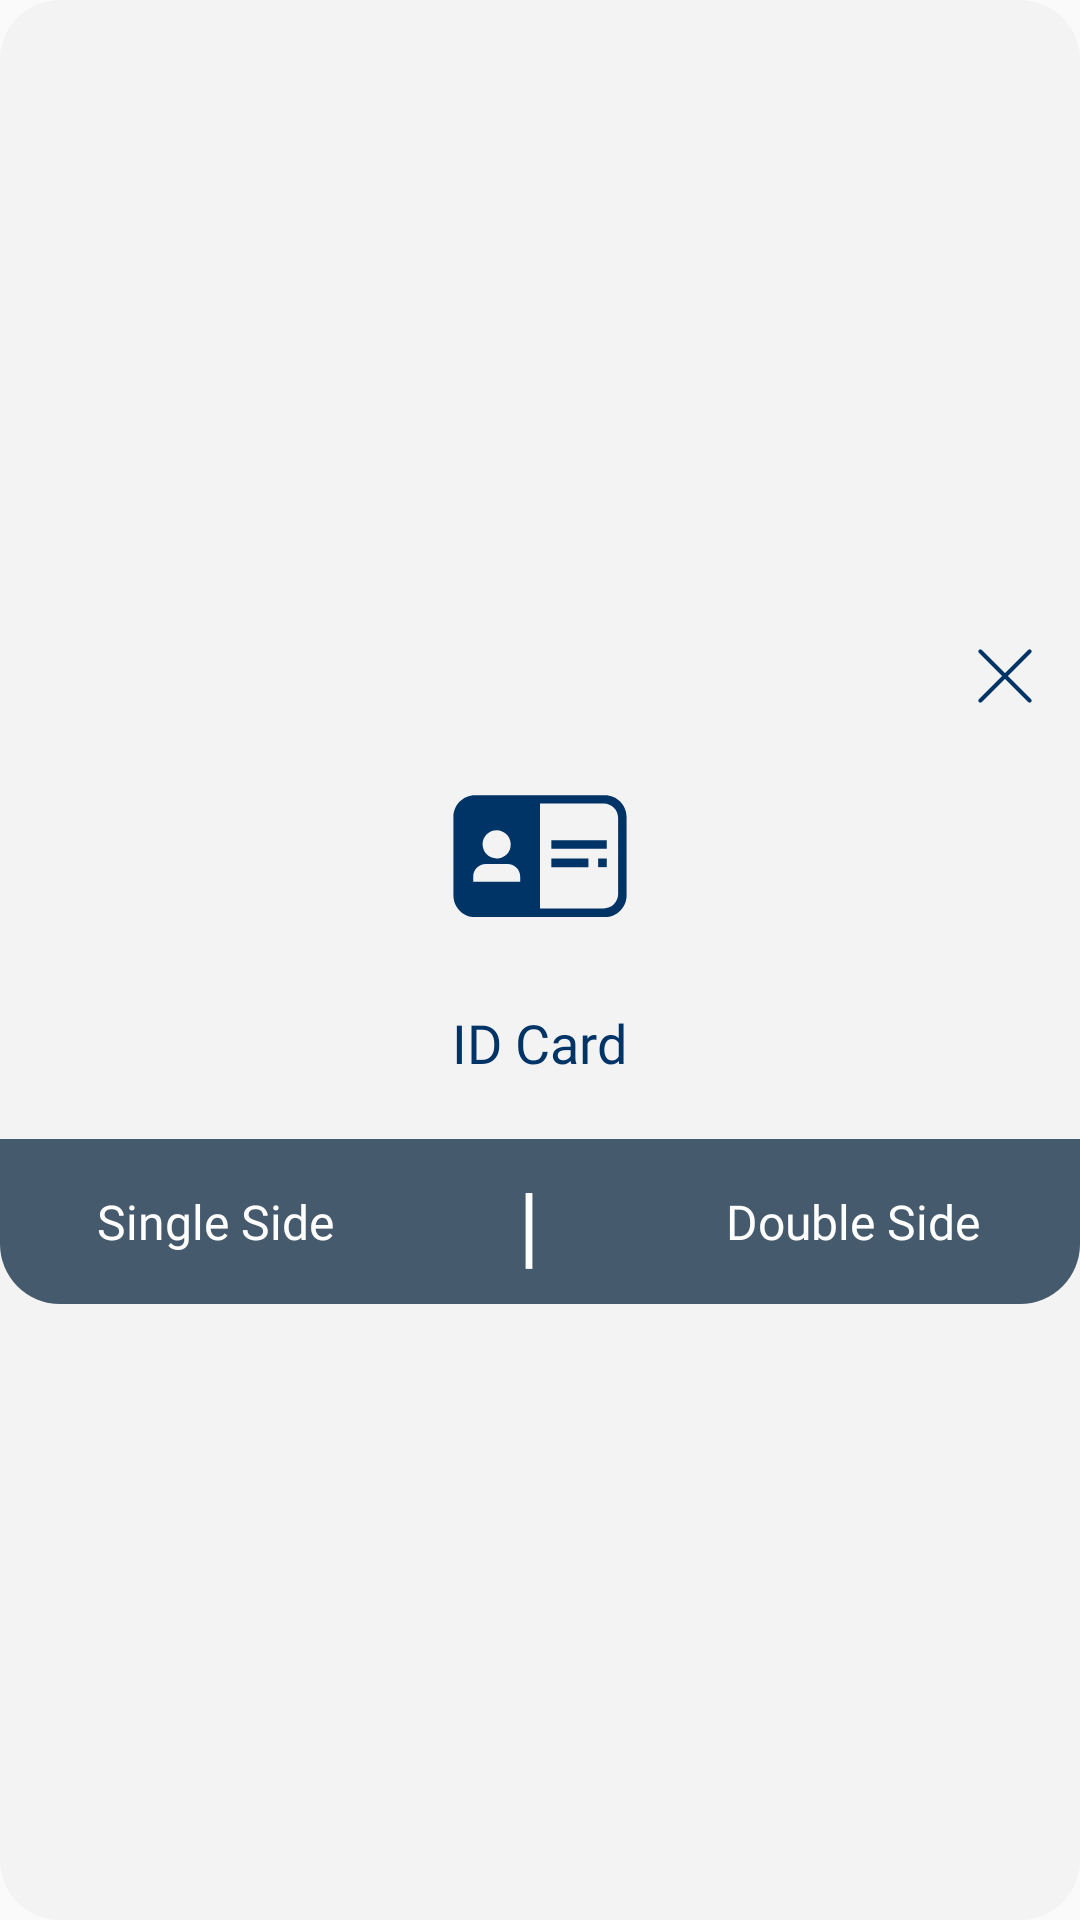

Screen size 1080px x 1920px. Icon name, then its center in pixels as point (x, y):
cancel: point (1005, 676)
